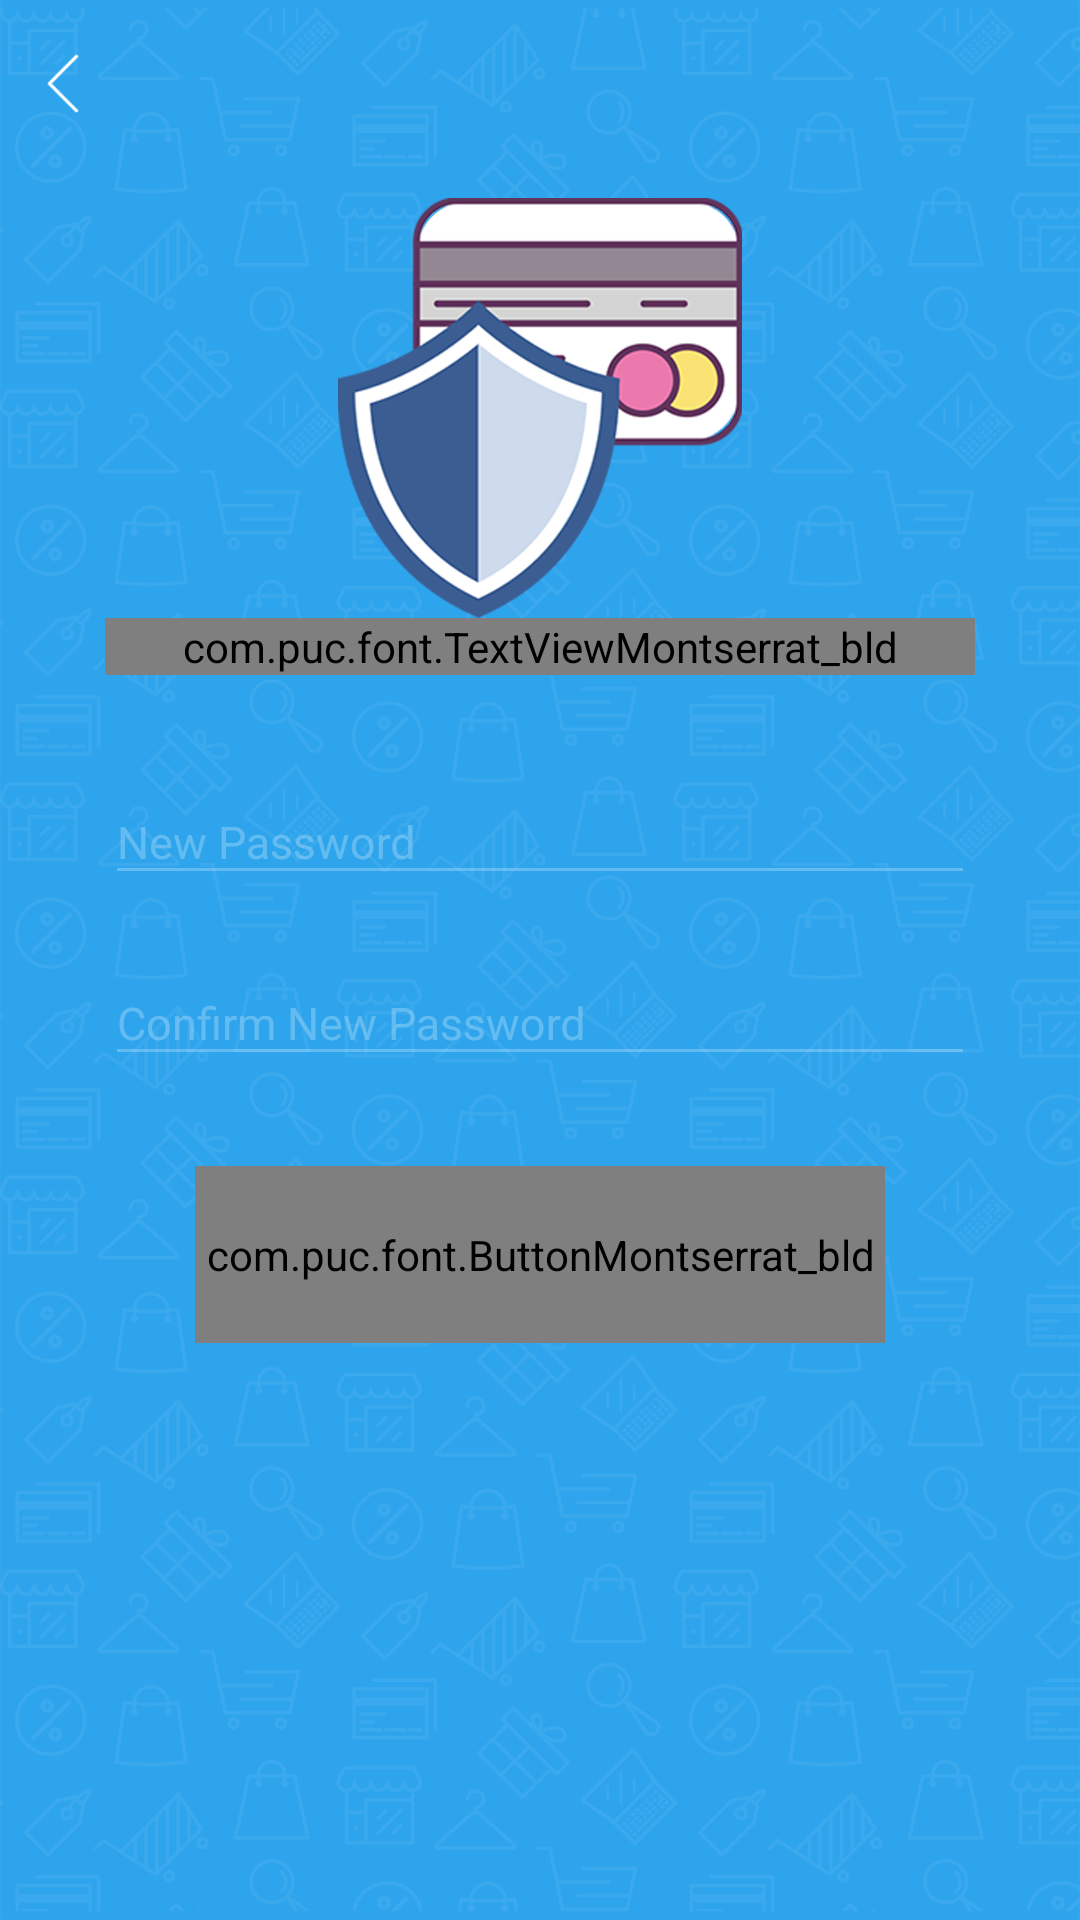

Named icons in this screenshot (1080px x 1920px) and their centers, (x,y):
back: (63,83)
